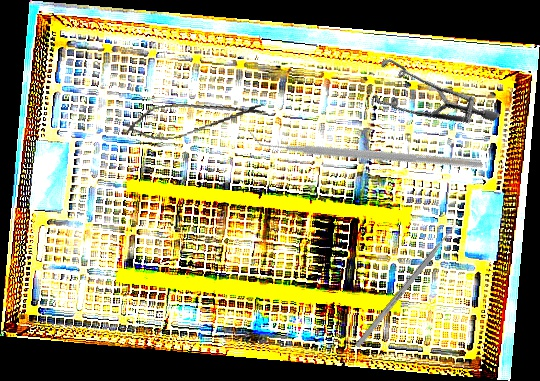Chopper: (247, 39, 484, 255)
Micro Scissor: (121, 89, 269, 147)
Pusher: (354, 217, 463, 349)
Speculum: (354, 25, 501, 175)
